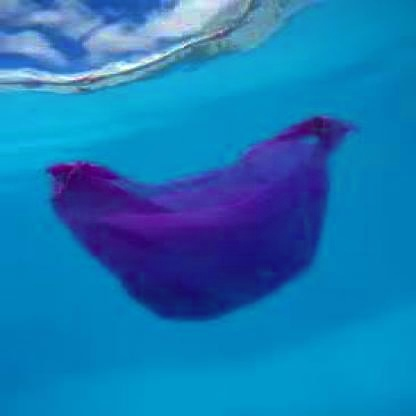pbag: (43, 115, 359, 324)
